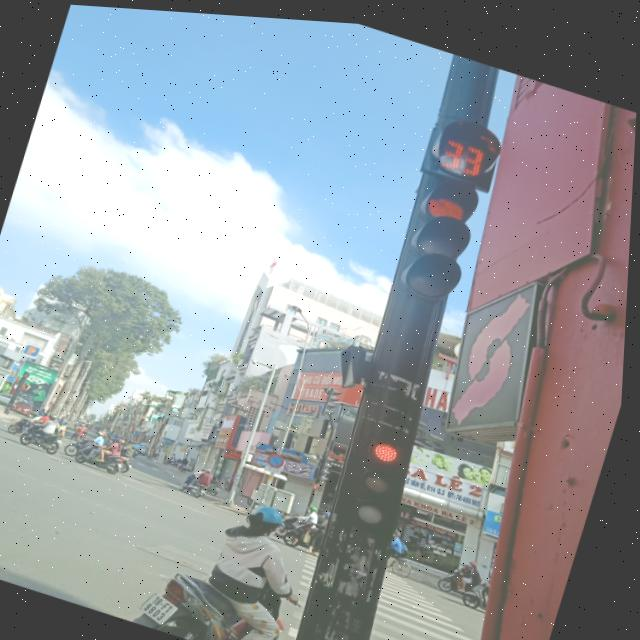Red: (383, 158, 493, 305), (336, 415, 425, 533)
